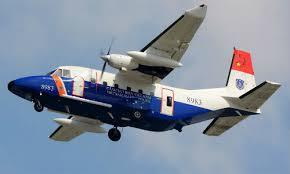maybay_muctieu: (4, 15, 271, 147)
